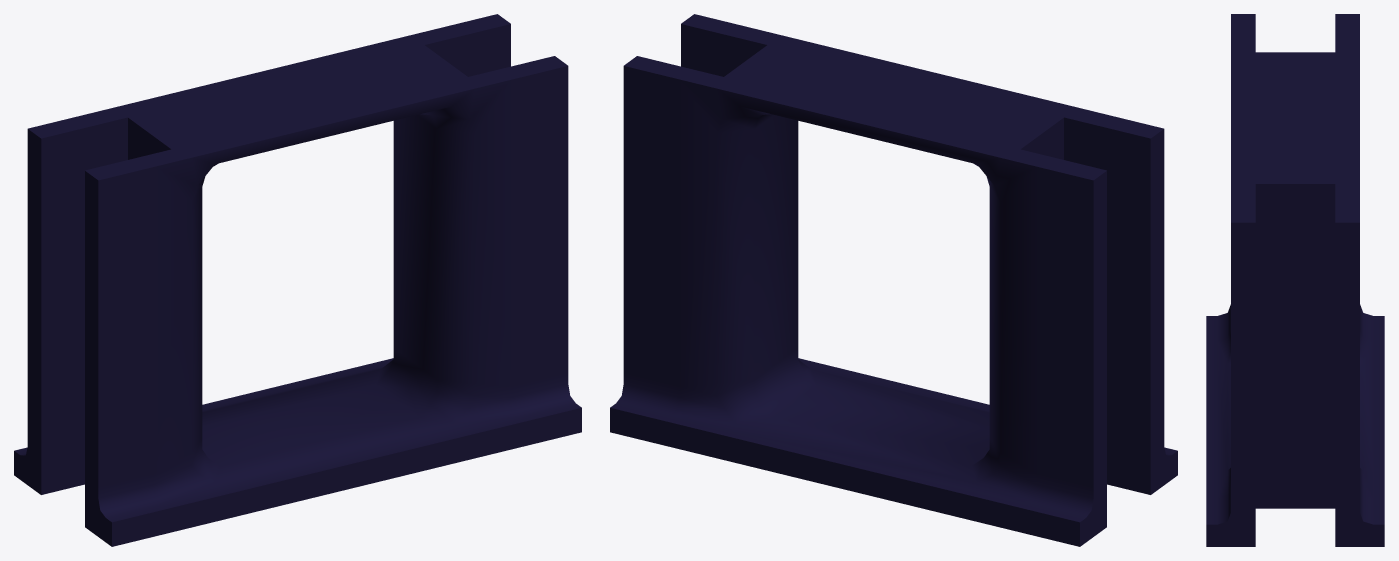
File: SM_Doorway-Basic_E.fbx
The picture shows the model from 3 angles, left to right: view 1: azimuth 30°, elevation 25°; view 2: azimuth 150°, elevation 25°; view 3: azimuth 270°, elevation 25°; orthographic projection. The views are drawn at different scales.
Parts seen in each view (by area): view 1: SM_Doorway-Basic_E; view 2: SM_Doorway-Basic_E; view 3: SM_Doorway-Basic_E.
Boxes of the visible parts, <box> form: SM_Doorway-Basic_E: <box>14,14,581,546</box>; SM_Doorway-Basic_E: <box>610,14,1177,546</box>; SM_Doorway-Basic_E: <box>1206,14,1384,546</box>.
Bounding box in the file's own units: 400 × 144 × 290.
